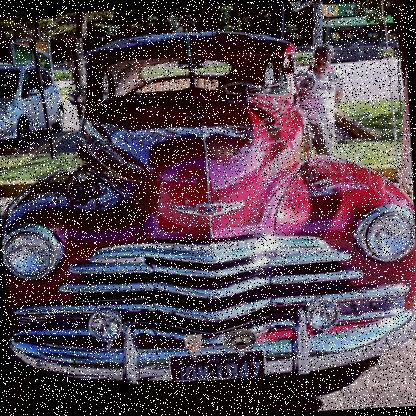Car: (0, 19, 415, 391), (0, 53, 73, 154), (0, 61, 20, 68)
